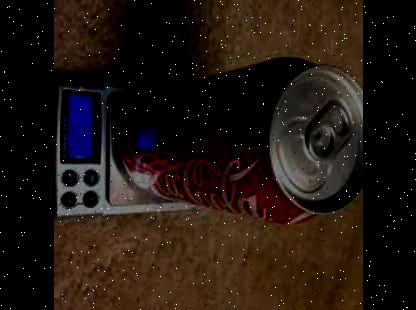Can: (114, 58, 362, 226)
